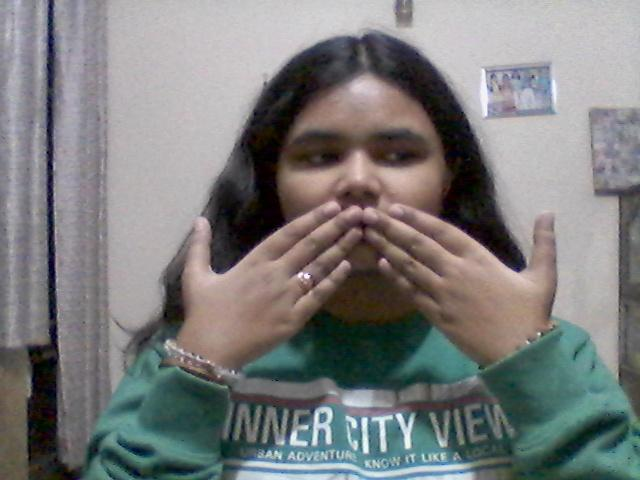thank you: (173, 196, 576, 380)
